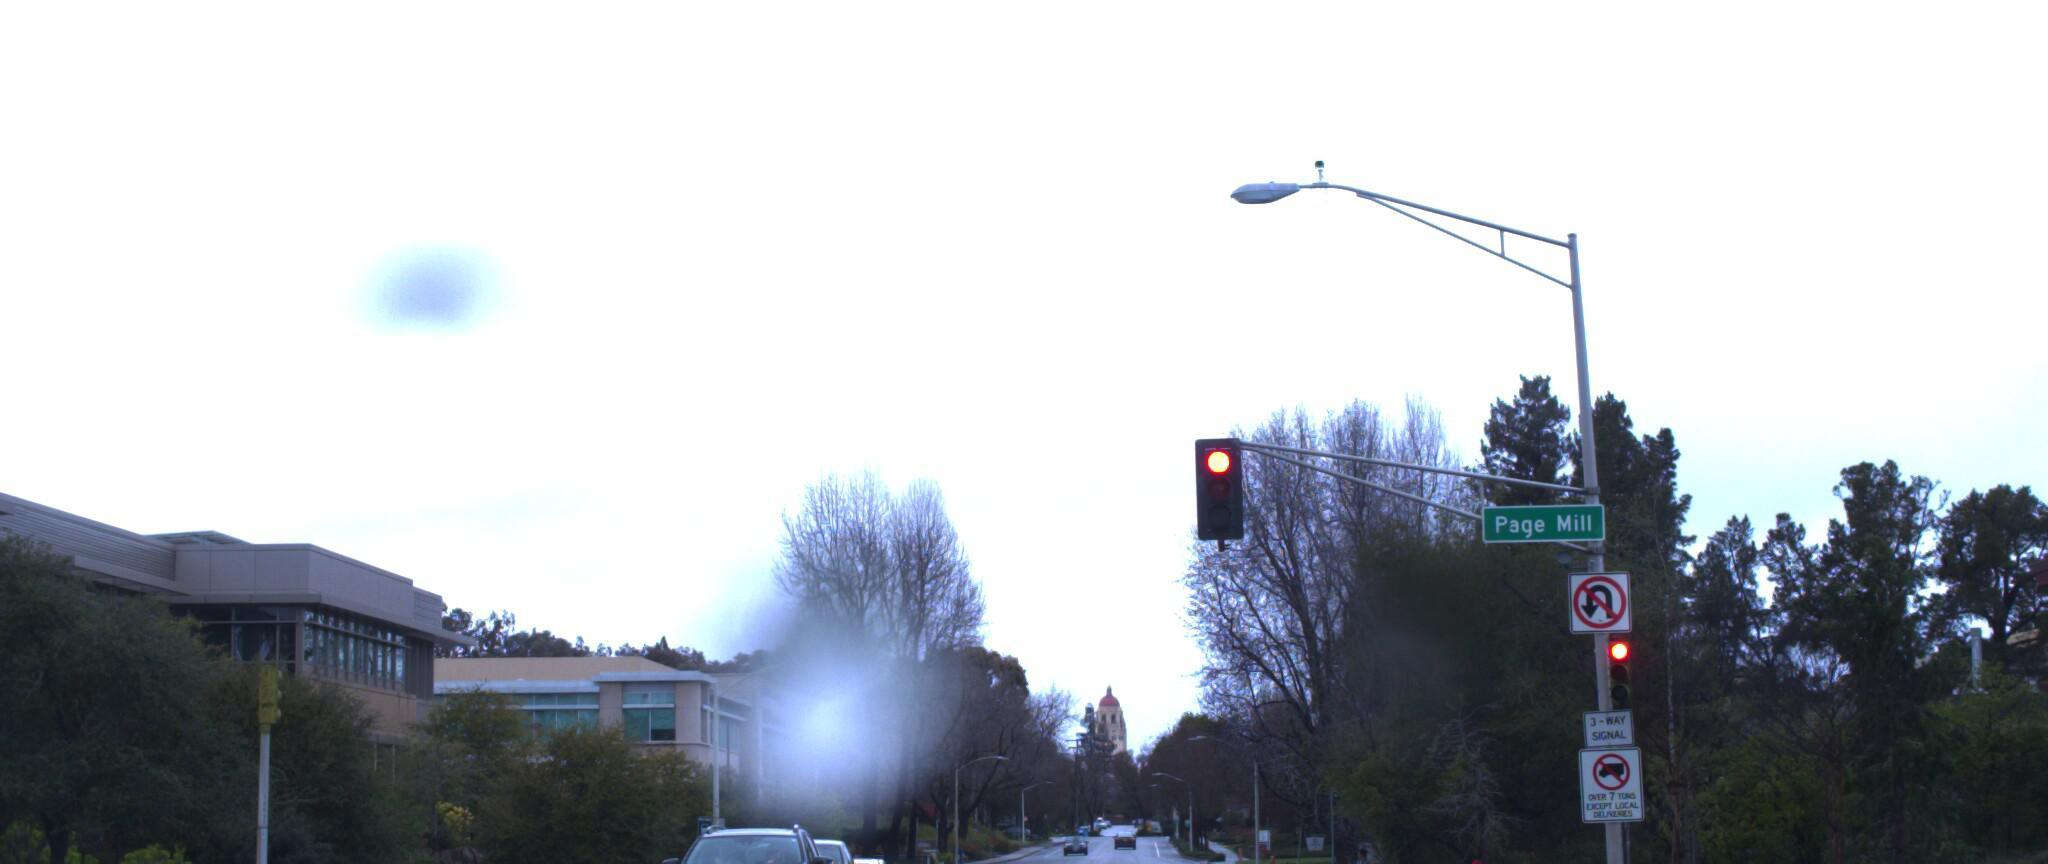car: (643, 820, 841, 864), (703, 833, 869, 864), (771, 850, 903, 864)
